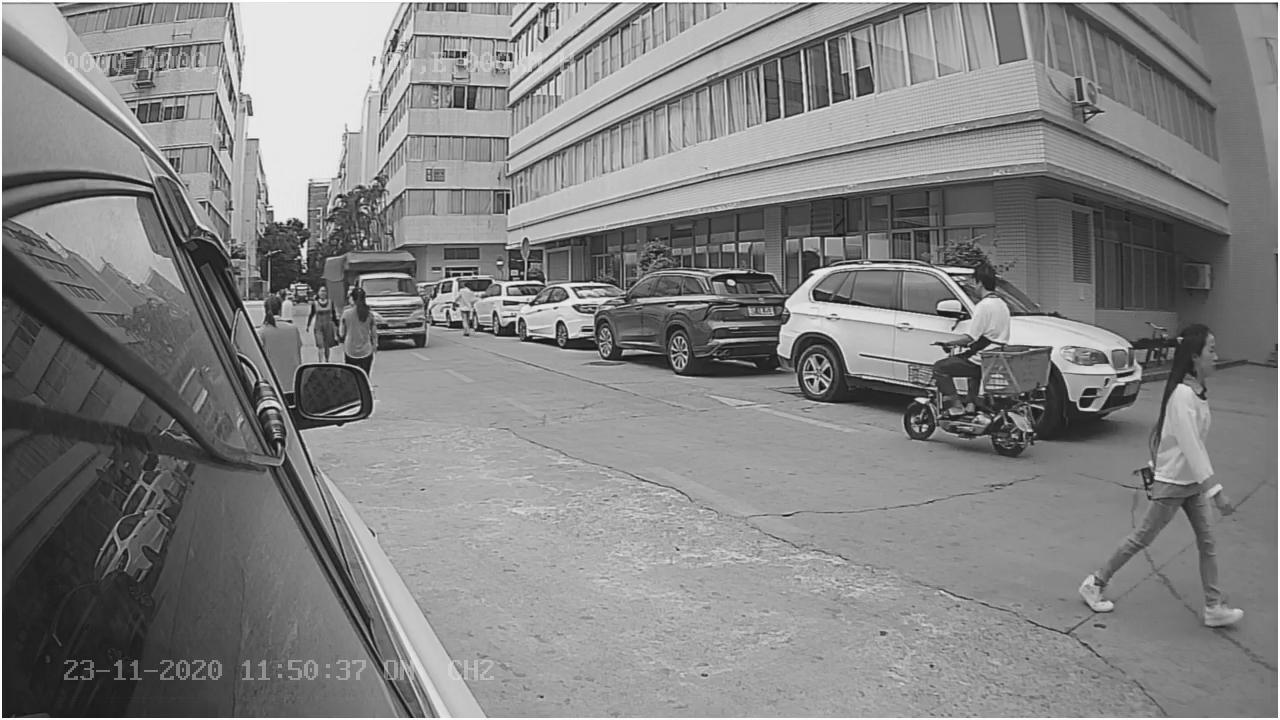person: (1080, 318, 1245, 623), (934, 246, 1011, 349)
